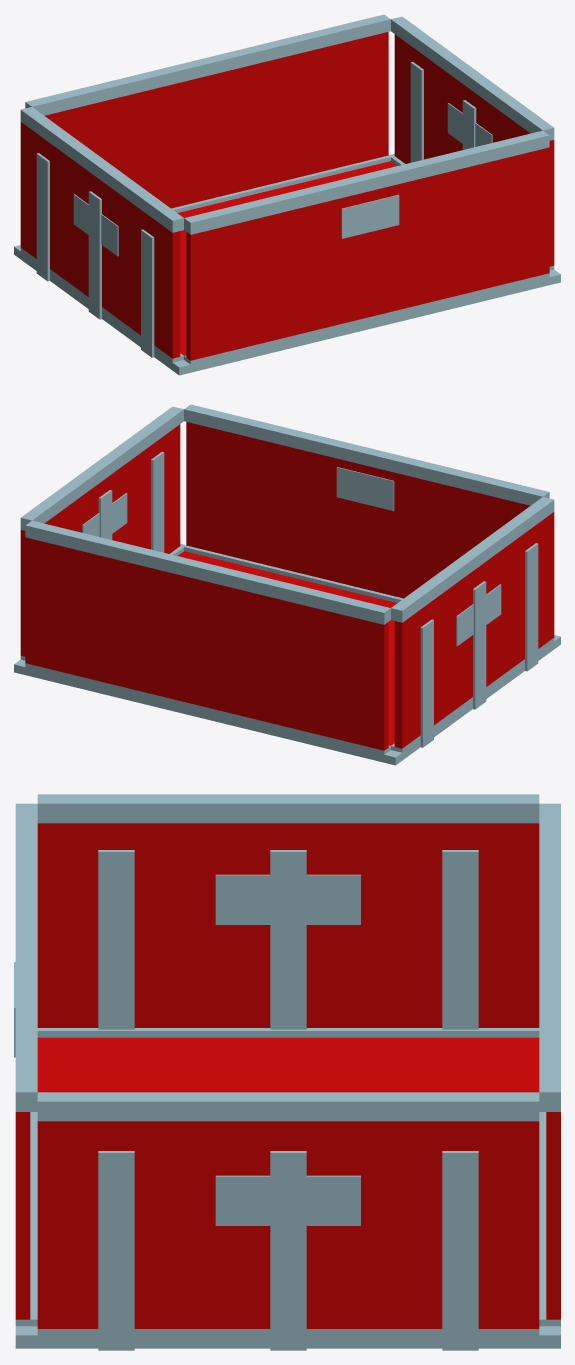
File: container-tote-400x300.glb
The picture shows the model from 3 angles, top to bottom: view 1: azimuth 30°, elevation 25°; view 2: azimuth 150°, elevation 25°; view 3: azimuth 270°, elevation 25°; orthographic projection. The views are drawn at different scales.
Parts seen in each view (by area): view 1: world; view 2: world; view 3: world.
Boxes of the visible parts, <box> form: world: <box>14,14,560,375</box>; world: <box>14,404,560,765</box>; world: <box>14,794,560,1350</box>.
Size of the model in its own units: 405 by 150 by 301.
